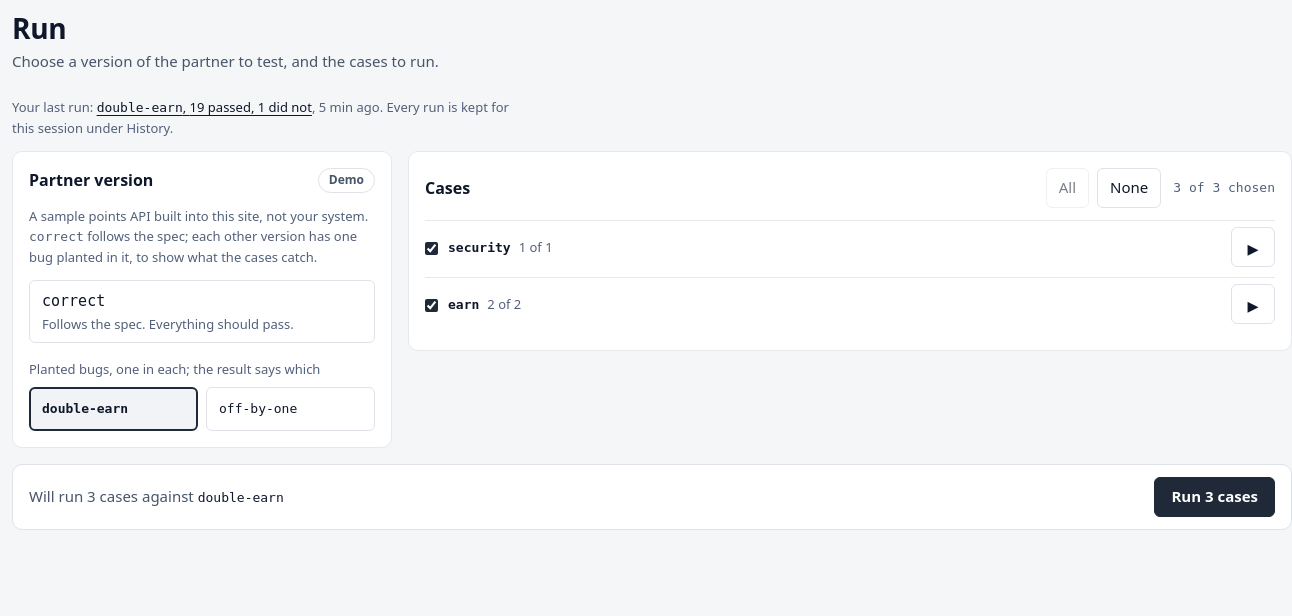
Test: the Run page › the way back to the last run › is not shown while a run goes, when the page is already about one
Check: the text "Your last run" is shown, box top-left (12, 98), bottom-right (93, 116)
What coordinates should you click on to do the following:
click the button "Run 3 cases"
I would click on:
 (1215, 497)
Its box is top-left (1154, 477), bottom-right (1275, 517).
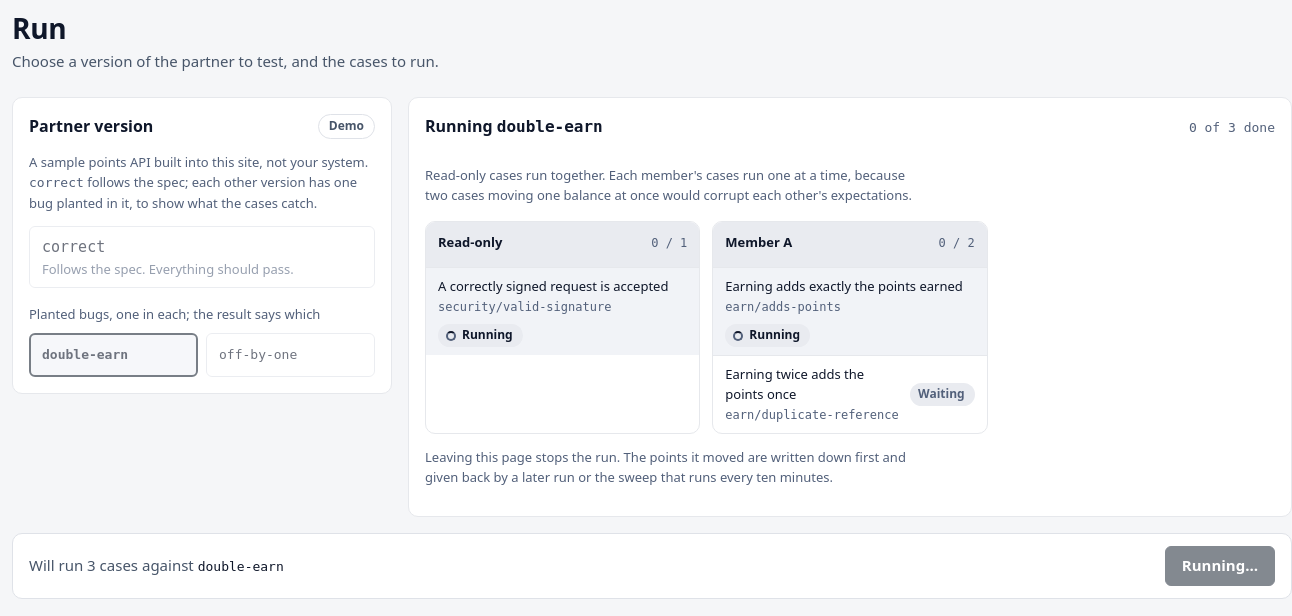
Check: the text "Your last run" is gone
